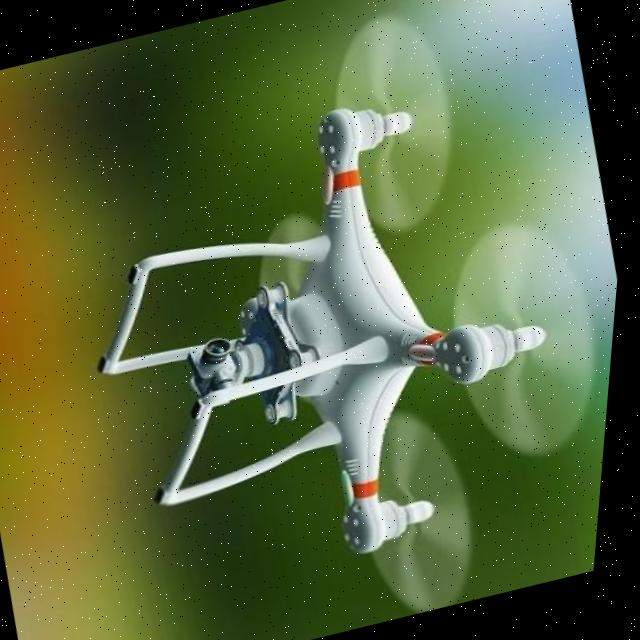drones: (19, 0, 640, 640)
